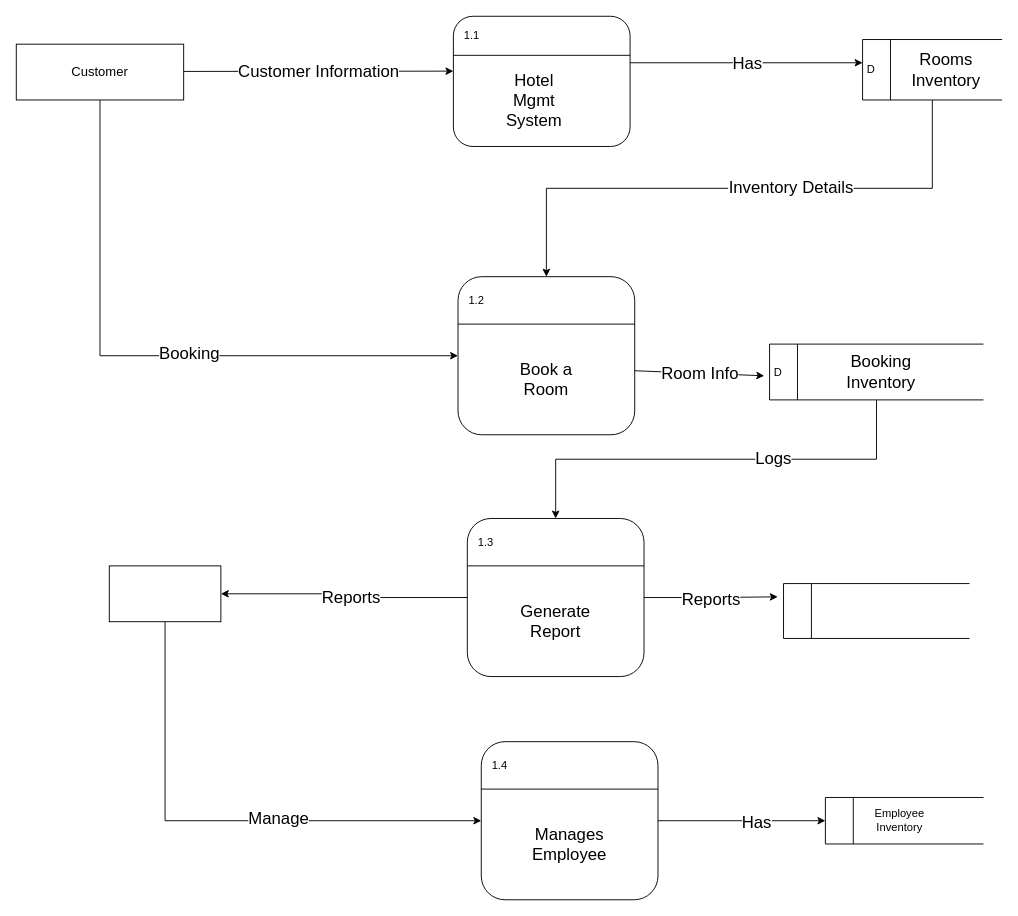
The diagram is 1018 pixels wide and 916 high, and some of its shapes have lost their labels. The centre of each missing label's shape, as x and y in pixels:
Manager: the point at 164,593
Report Inventory: the point at 876,610
